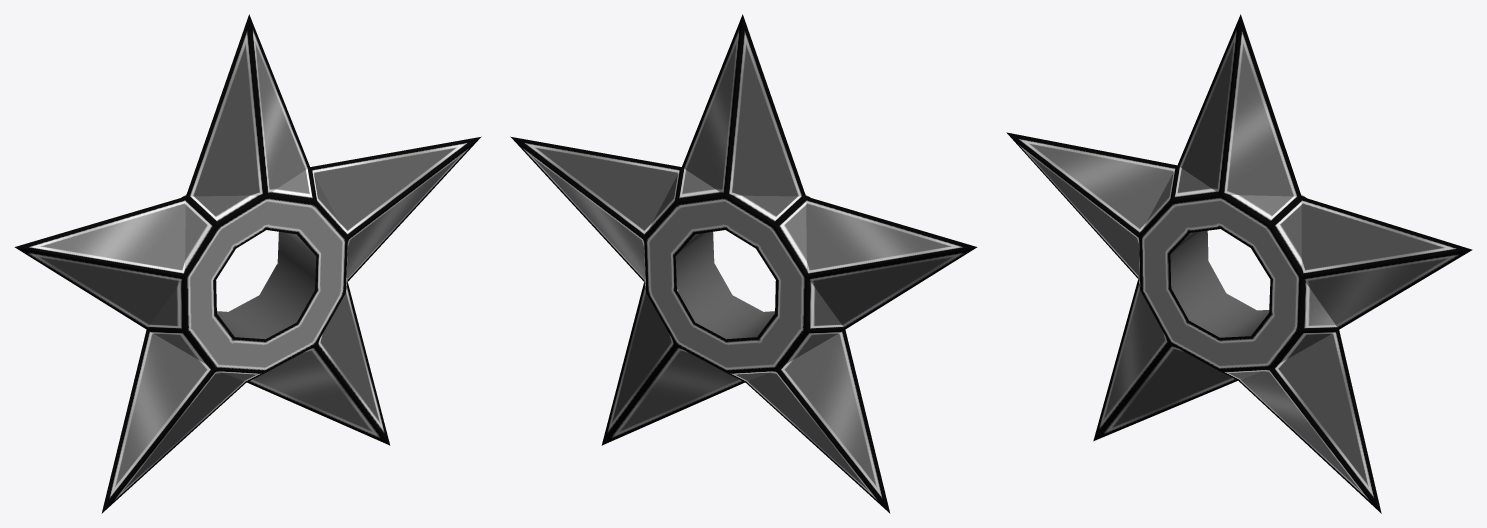
Rendered from Shuriken.FBX.
The picture shows the model from 3 angles, left to right: view 1: azimuth 30°, elevation 25°; view 2: azimuth 150°, elevation 25°; view 3: azimuth 330°, elevation 25°; orthographic projection.
Parts seen in each view (by area): view 1: Shuriken_NinjaMale; view 2: Shuriken_NinjaMale; view 3: Shuriken_NinjaMale.
Boxes of the visible parts, x1,y1,x2,y2 form: Shuriken_NinjaMale: (14,14,481,513); Shuriken_NinjaMale: (510,14,977,513); Shuriken_NinjaMale: (1006,14,1472,513).
Size of the model in its own units: 7.06 by 6.73 by 0.9765.
